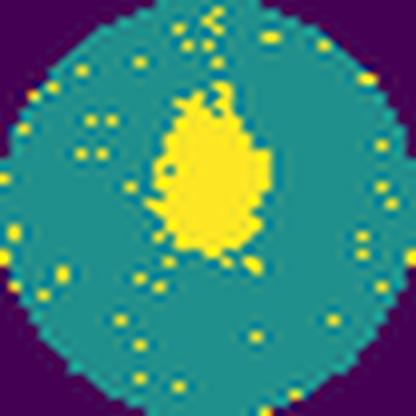Center: (146, 79, 272, 258)
